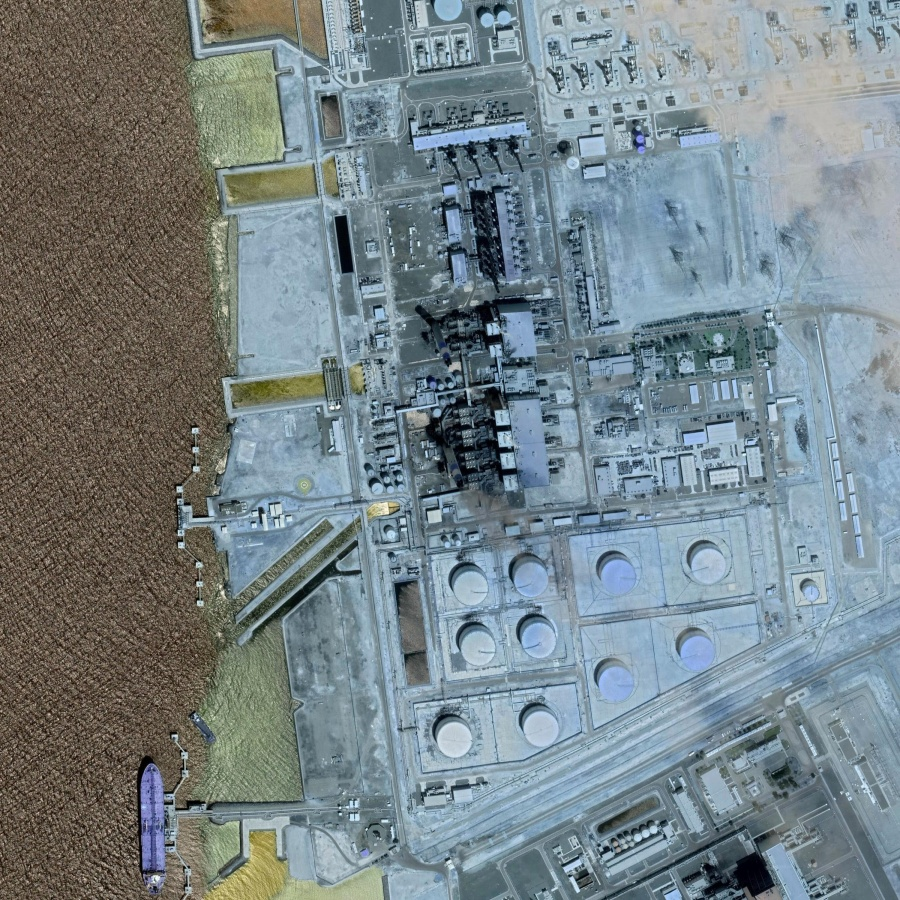PowerPlant: (382, 516, 762, 779), (362, 177, 584, 493)
